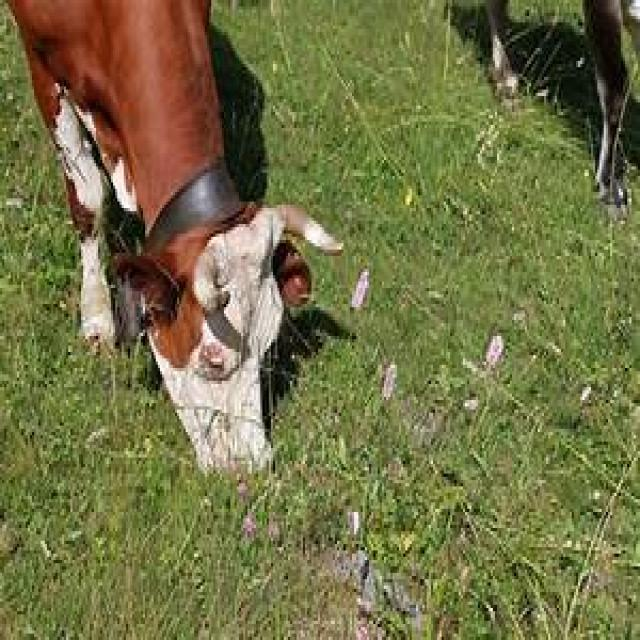cow: (12, 0, 341, 471)
